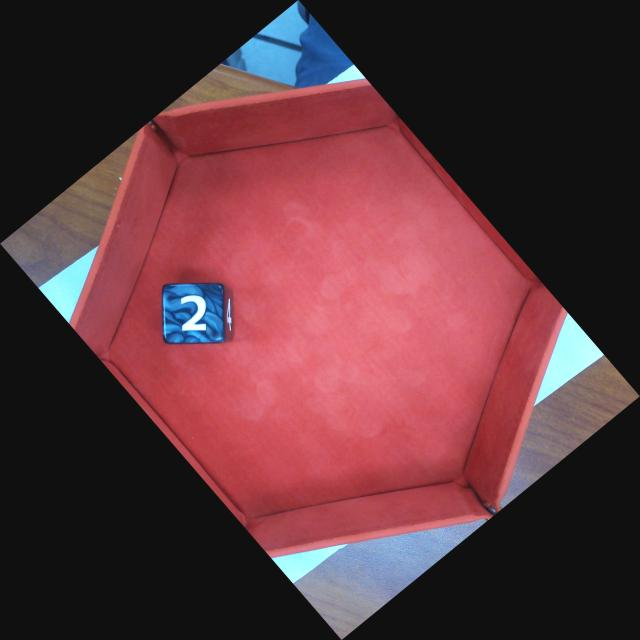dice: (165, 287, 228, 343)
